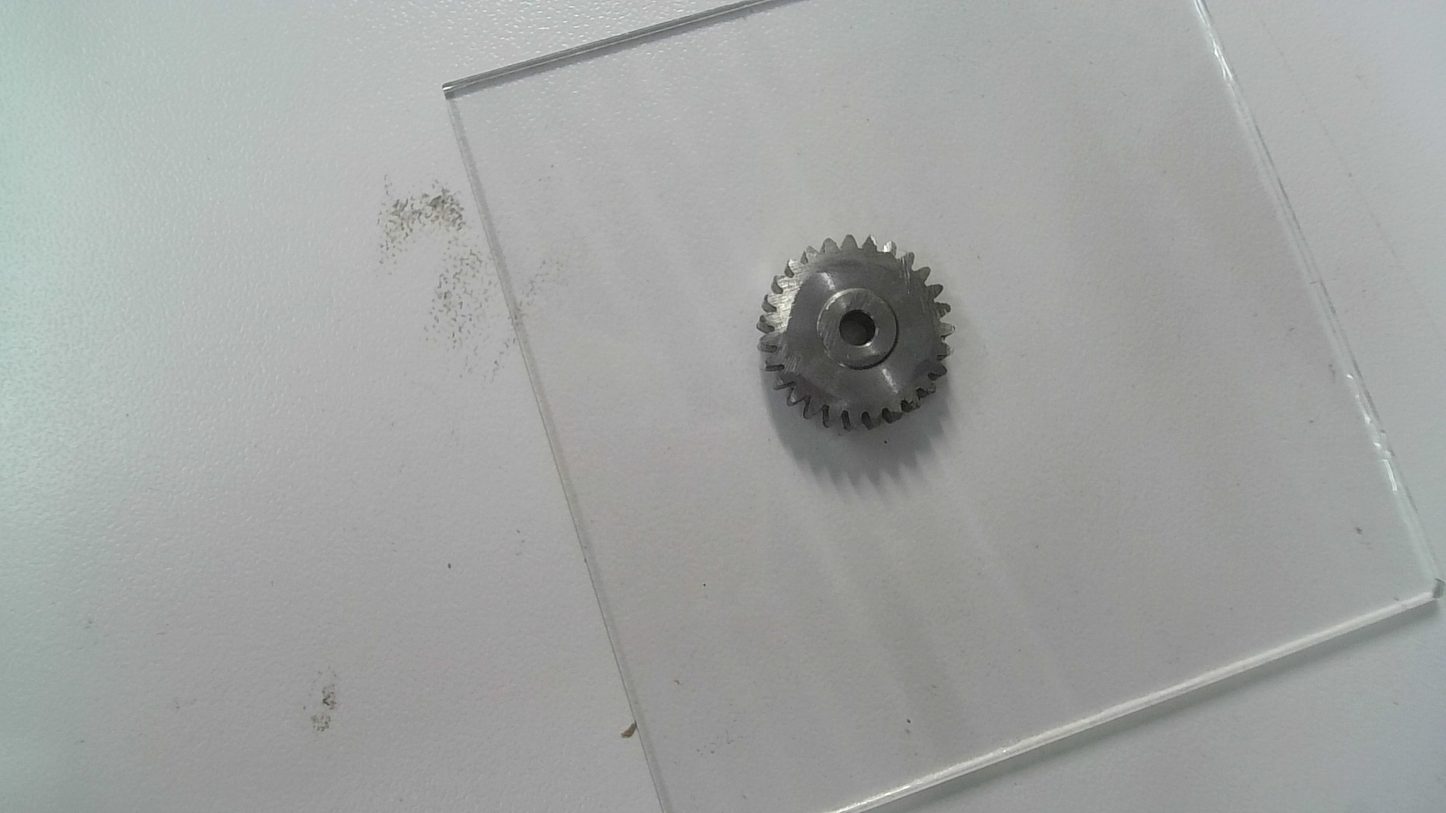gear: (750, 229, 956, 435)
